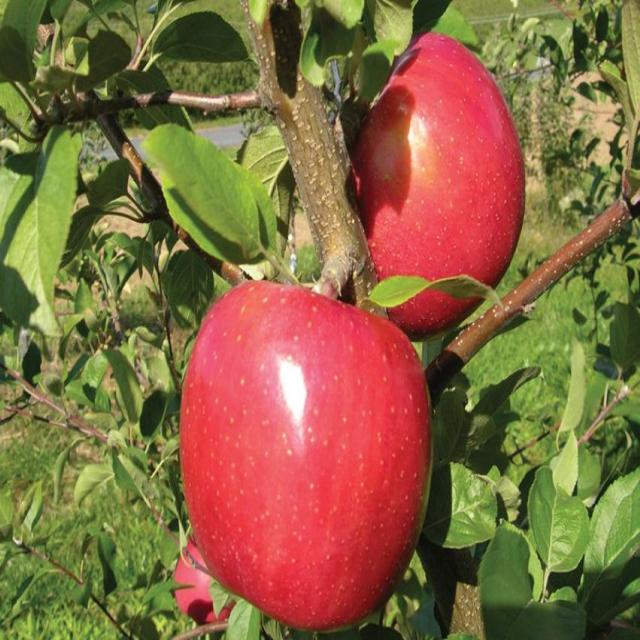Healty Apple: (170, 258, 449, 640), (326, 5, 539, 324)
